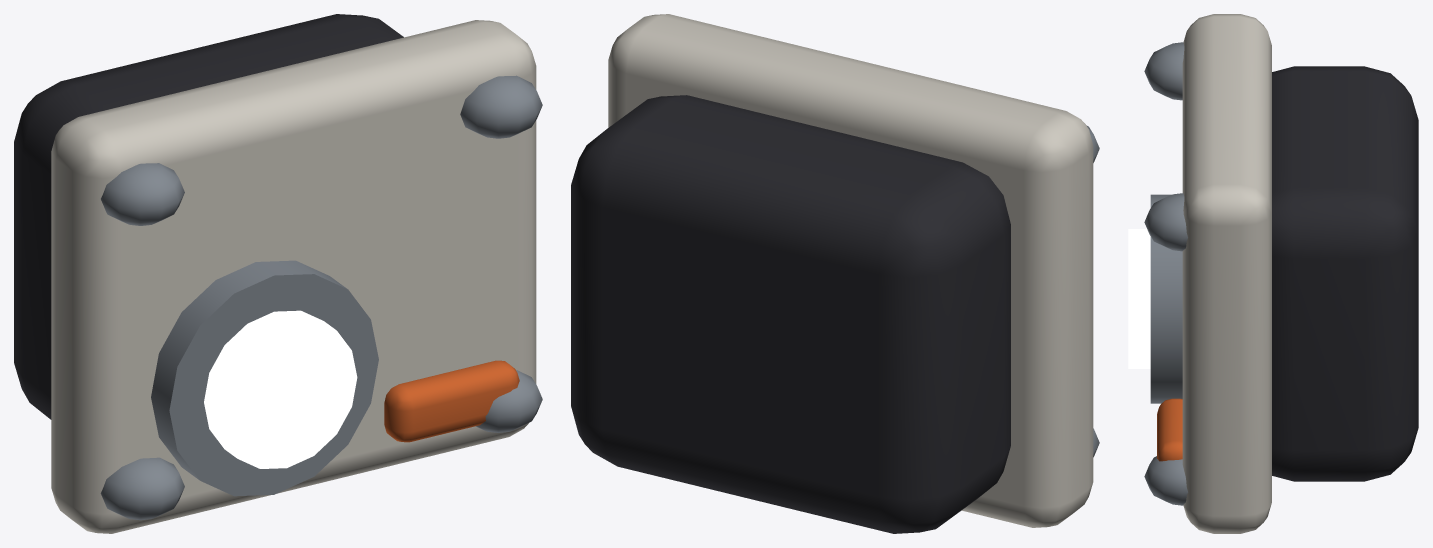
The model's file is co_slug.glb.
The picture shows the model from 3 angles, left to right: view 1: azimuth 30°, elevation 25°; view 2: azimuth 150°, elevation 25°; view 3: azimuth 270°, elevation 25°; orthographic projection. The views are drawn at different scales.
Parts seen in each view (by area): view 1: co_slug; view 2: co_slug; view 3: co_slug.
Boxes of the visible parts, x1,y1,x2,y2 form: co_slug: (14,14,542,533); co_slug: (571,14,1099,533); co_slug: (1128,14,1418,533).
Size of the model in its own units: 0.1548 by 0.129 by 0.0978.
